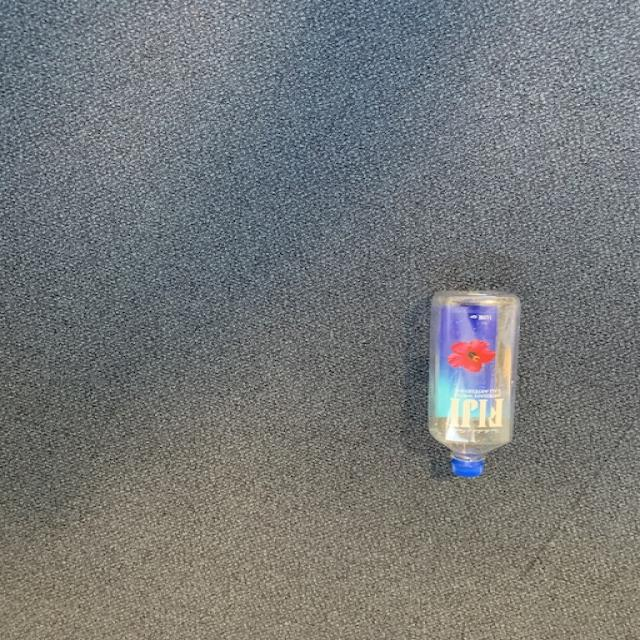Plastic: (429, 291, 521, 477)
